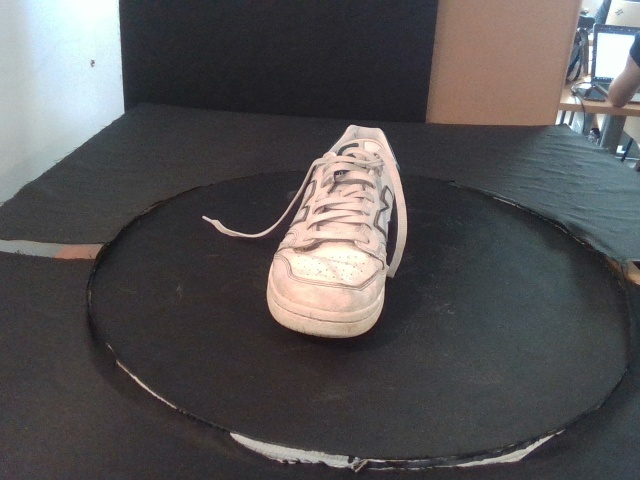shoe: (265, 124, 402, 339)
